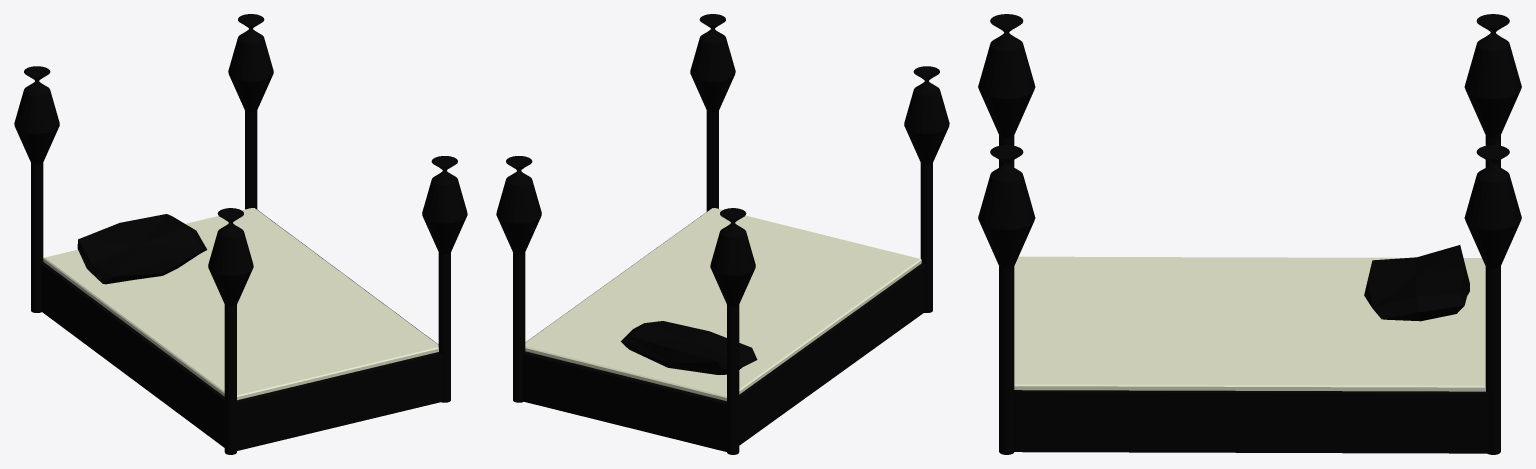
File: bed.dae
The picture shows the model from 3 angles, left to right: view 1: azimuth 30°, elevation 25°; view 2: azimuth 150°, elevation 25°; view 3: azimuth 270°, elevation 25°; orthographic projection. The views are drawn at different scales.
Visible parts, largest first — view 1: bed_indoor_pillow; view 2: bed_indoor_pillow; view 3: bed_indoor_pillow.
Part boxes in pixels (left/top/right/bottom): bed_indoor_pillow: left=14, top=14, right=467, bottom=454; bed_indoor_pillow: left=496, top=14, right=949, bottom=454; bed_indoor_pillow: left=978, top=14, right=1521, bottom=454.
Size of the model in its own units: 3.58 by 5.3 by 3.22.
